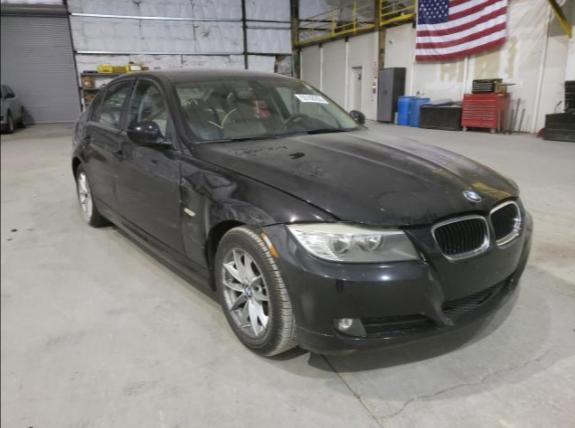Broken part: (226, 170, 517, 230), (439, 269, 521, 328), (251, 220, 344, 233)
Dent: (181, 169, 276, 238), (179, 185, 198, 224)
Scratch: (296, 325, 334, 337)
